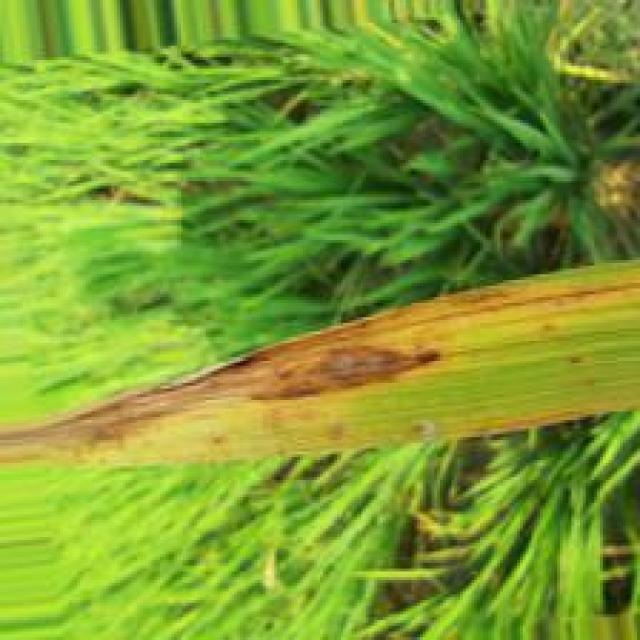Leaf_Blast: (0, 275, 640, 465)
